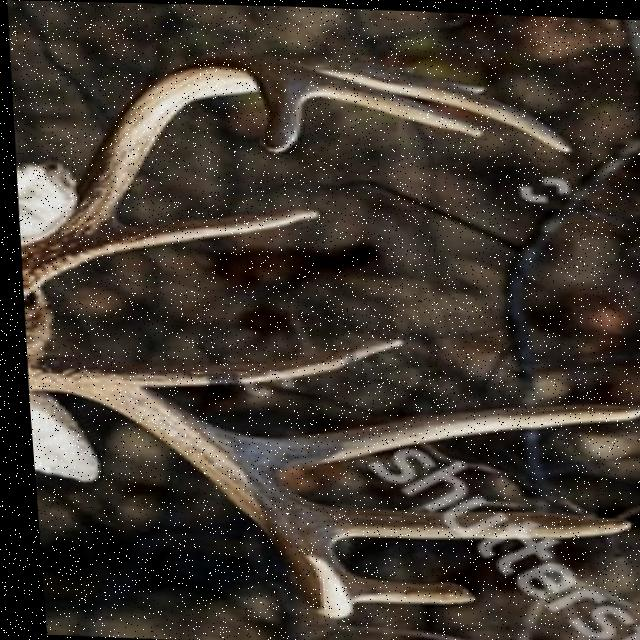L-F: (21, 354, 342, 618)
L-G1: (107, 337, 398, 385)
L-G2: (236, 401, 640, 470)
L-G3: (307, 503, 624, 539)
L-G4: (339, 575, 465, 603)
R-F: (16, 53, 300, 298)
R-G1: (103, 207, 318, 254)
R-G4: (285, 63, 480, 135)
